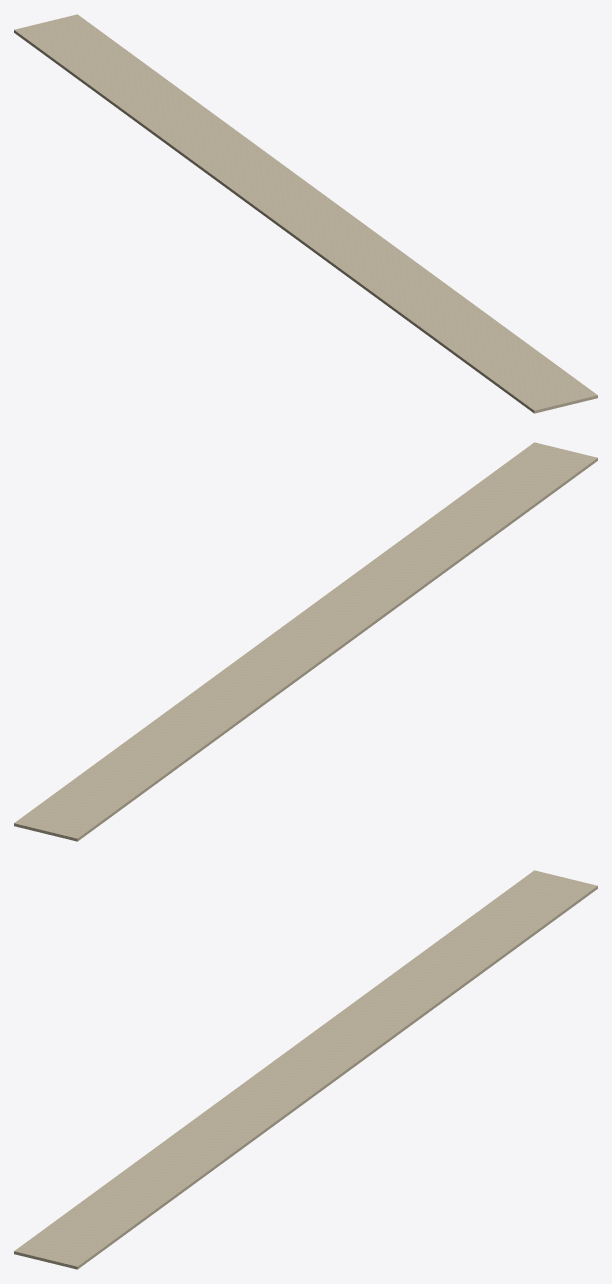
Rendered from SERVICE_D09_PF_inner_01__floor.glb.
3 renders of one model, top to bottom at view 1: azimuth 30°, elevation 25°; view 2: azimuth 150°, elevation 25°; view 3: azimuth 330°, elevation 25°, orthographic.
Parts seen in each view (by area): view 1: SERVICE_D09_PF_inner_01__floor__warm_stone; view 2: SERVICE_D09_PF_inner_01__floor__warm_stone; view 3: SERVICE_D09_PF_inner_01__floor__warm_stone.
Part boxes in pixels (x1=…): SERVICE_D09_PF_inner_01__floor__warm_stone: x1=14, y1=14, x2=597, y2=413; SERVICE_D09_PF_inner_01__floor__warm_stone: x1=14, y1=442, x2=597, y2=841; SERVICE_D09_PF_inner_01__floor__warm_stone: x1=14, y1=870, x2=597, y2=1269.
Size of the model in its own units: 5.5 by 0.24 by 78.
Materials: 1 (1 with a texture image).
